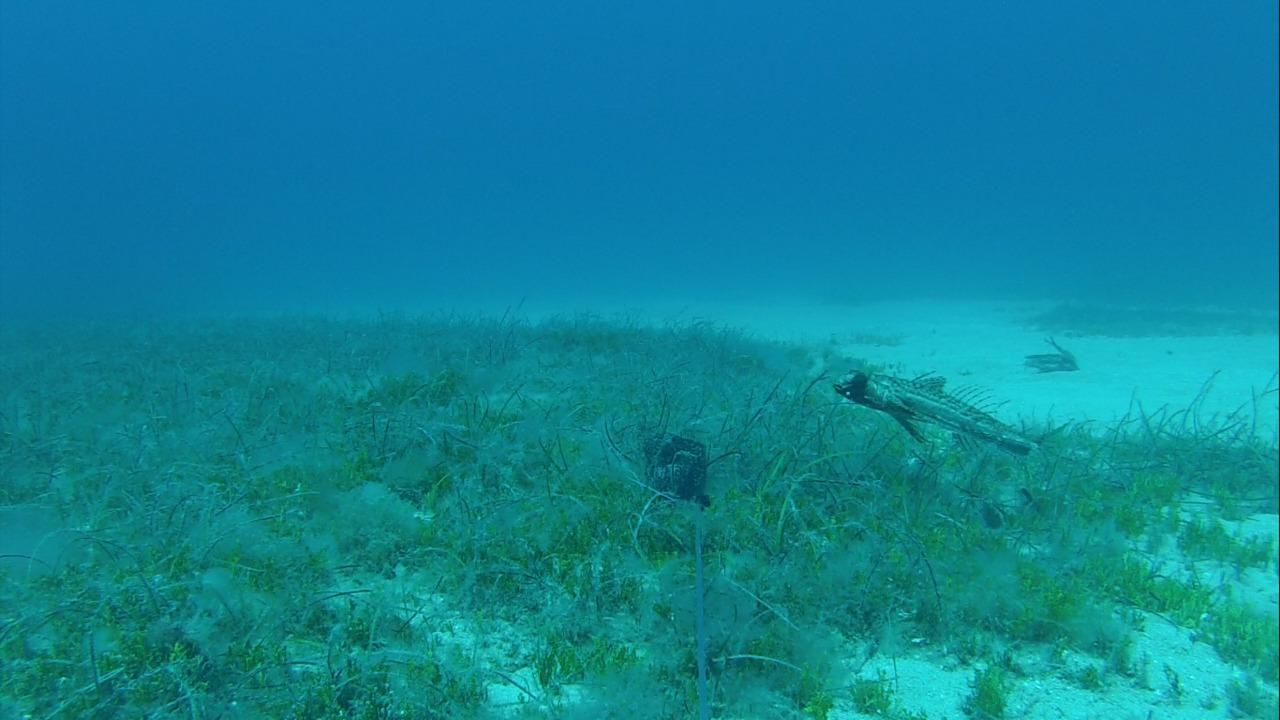dactylopterus: (825, 365, 1074, 489)
